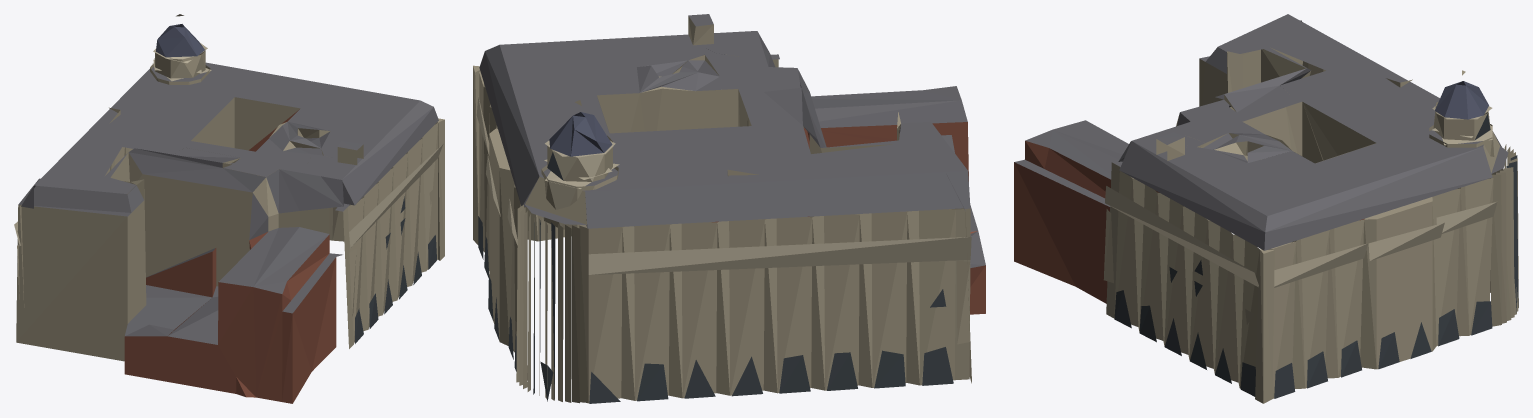
File: hirschgebouw.lod2.glb
3 renders of one model, left to right at view 1: azimuth 30°, elevation 25°; view 2: azimuth 150°, elevation 25°; view 3: azimuth 270°, elevation 25°, orthographic. The views are drawn at different scales.
Parts seen in each view (by area): view 1: lod2; view 2: lod2; view 3: lod2.
Boxes of the visible parts, box(x1,y1,x2,y2) form: lod2: box(14, 14, 444, 403); lod2: box(473, 14, 985, 403); lod2: box(1014, 14, 1518, 403).
Bounding box in the file's own units: 73.81 × 37.51 × 71.45.
